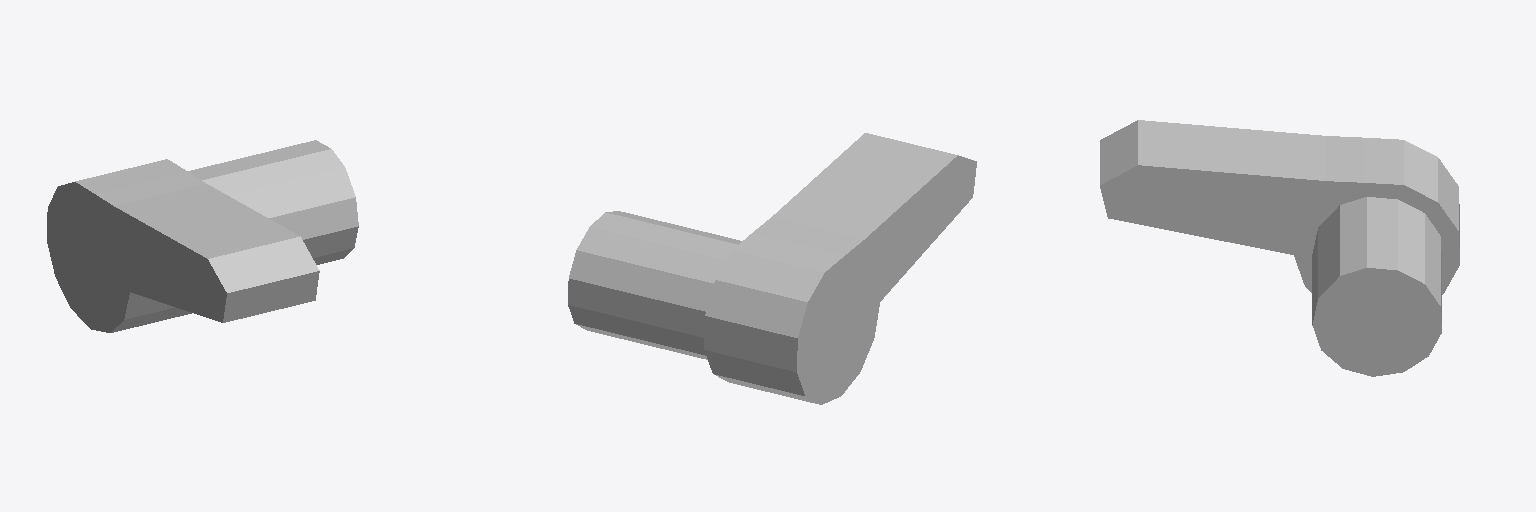
File: toilet_handle_1.obj
3 renders of one model, left to right at view 1: azimuth 30°, elevation 25°; view 2: azimuth 150°, elevation 25°; view 3: azimuth 270°, elevation 25°, orthographic.
Bounding box in the file's own units: 1.35 × 0.8429 × 1.77.